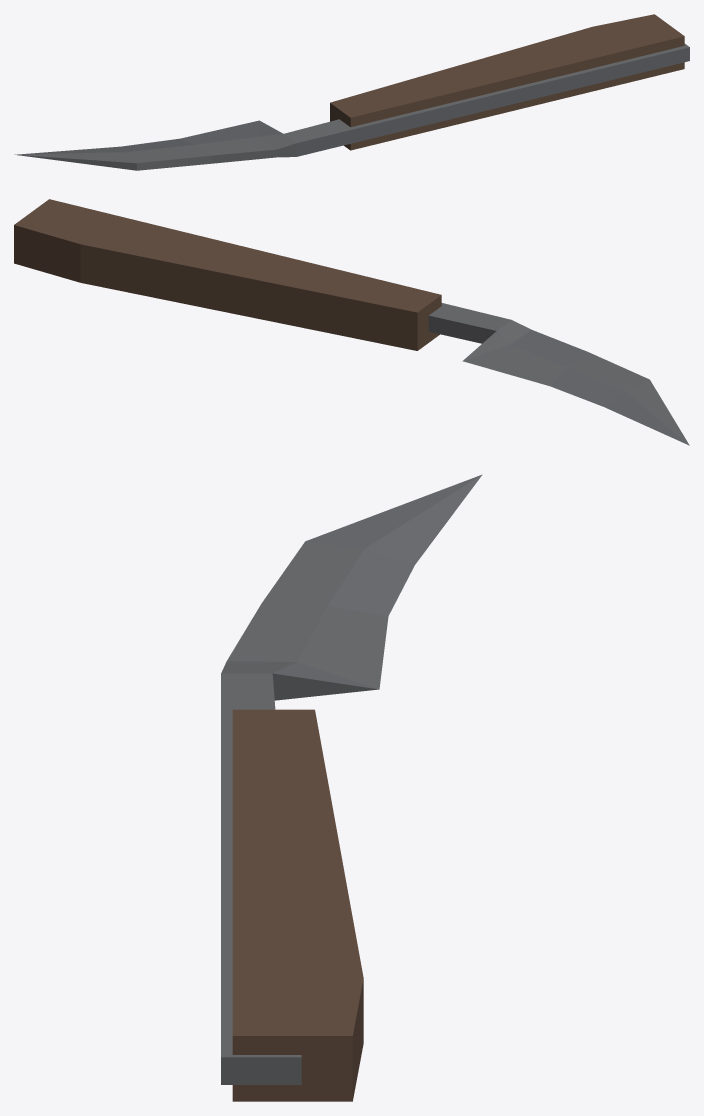
File: peelingKnife.fbx
The picture shows the model from 3 angles, top to bottom: view 1: azimuth 30°, elevation 25°; view 2: azimuth 150°, elevation 25°; view 3: azimuth 270°, elevation 25°; orthographic projection. The views are drawn at different scales.
Parts seen in each view (by area): view 1: peelingKnife; view 2: peelingKnife; view 3: peelingKnife.
Boxes of the visible parts, x1,y1,x2,y2 form: peelingKnife: (14, 14, 689, 170); peelingKnife: (14, 199, 689, 445); peelingKnife: (221, 474, 482, 1101).
Size of the model in its own units: 38.52 by 1.98 by 7.15.
Materials: 1 (1 with a texture image).
